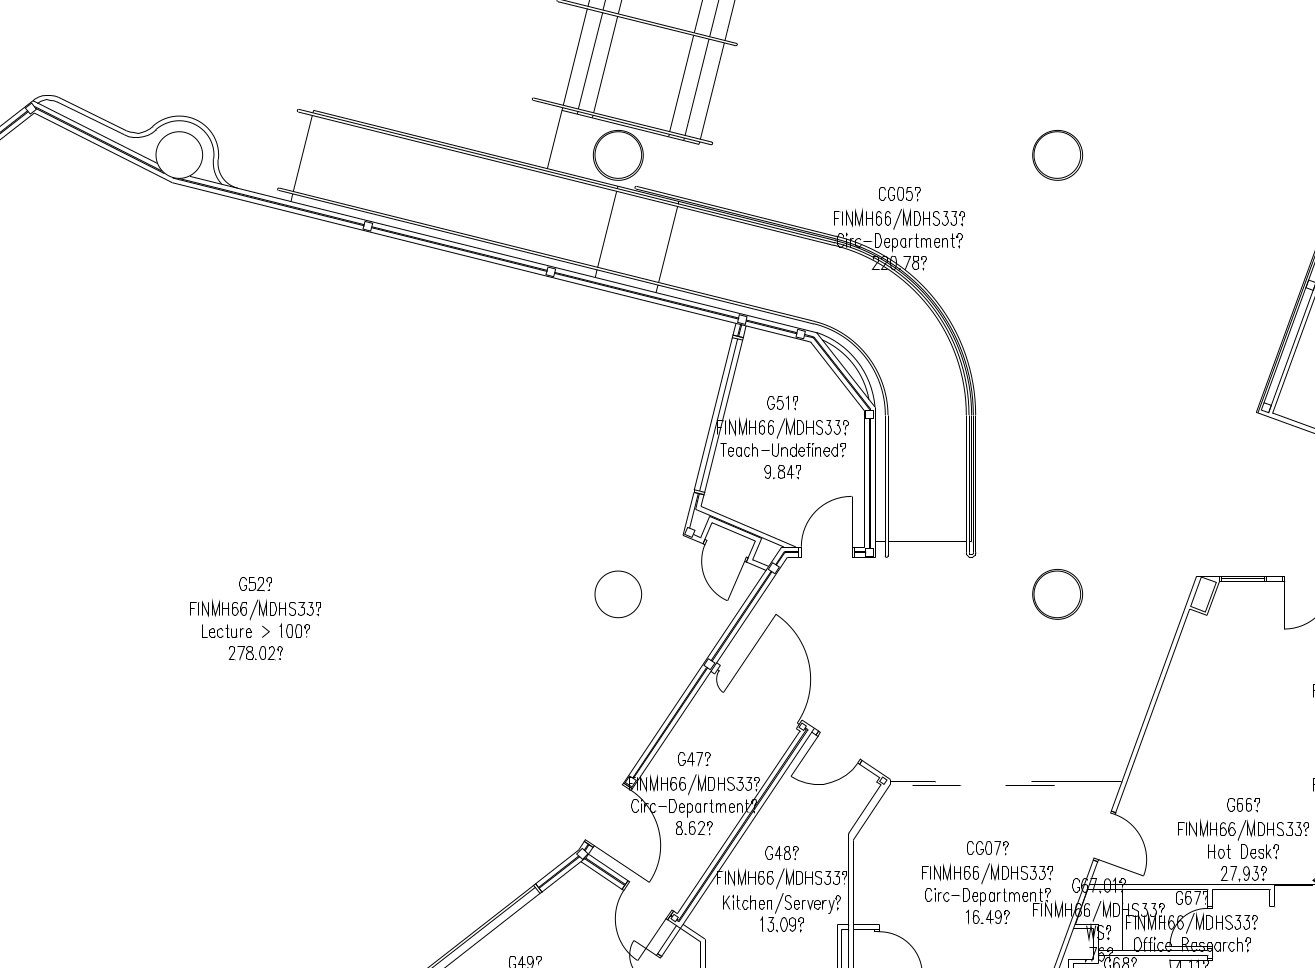door: (733, 607, 819, 719), (788, 728, 861, 798), (1092, 810, 1165, 880), (688, 538, 748, 606), (798, 491, 859, 556), (871, 920, 935, 968)
